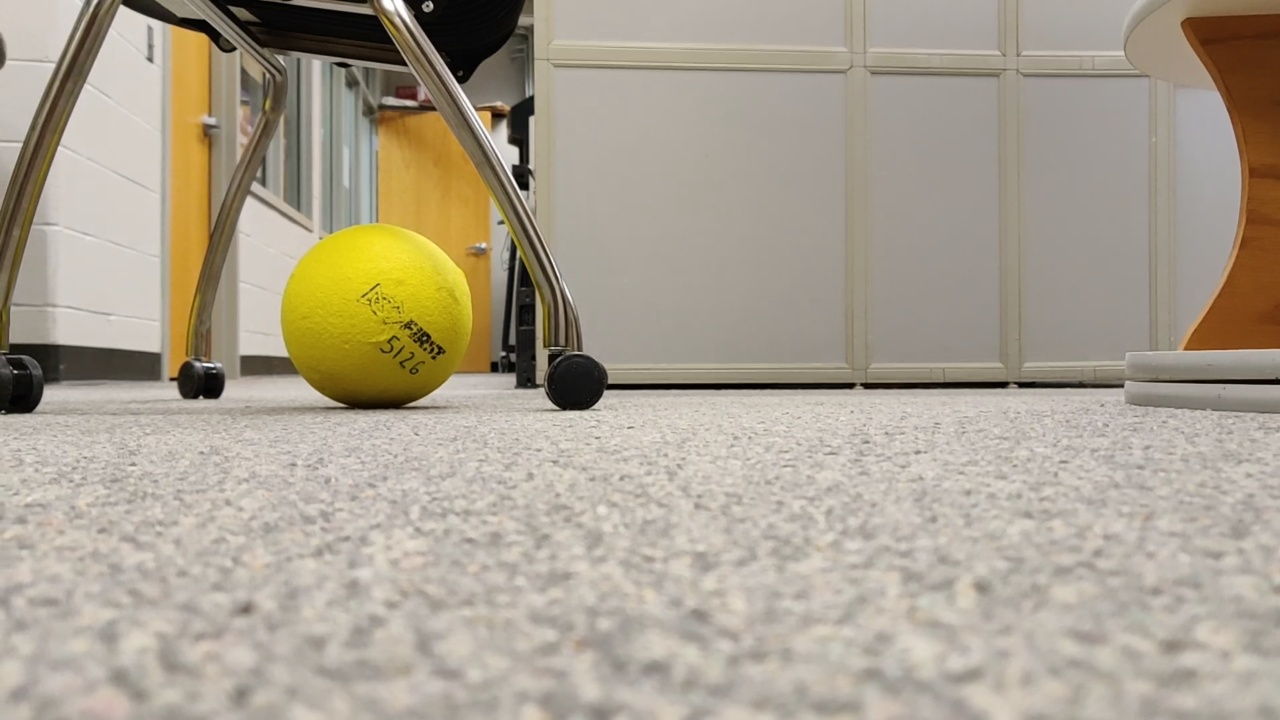Ball: (279, 219, 475, 416)
